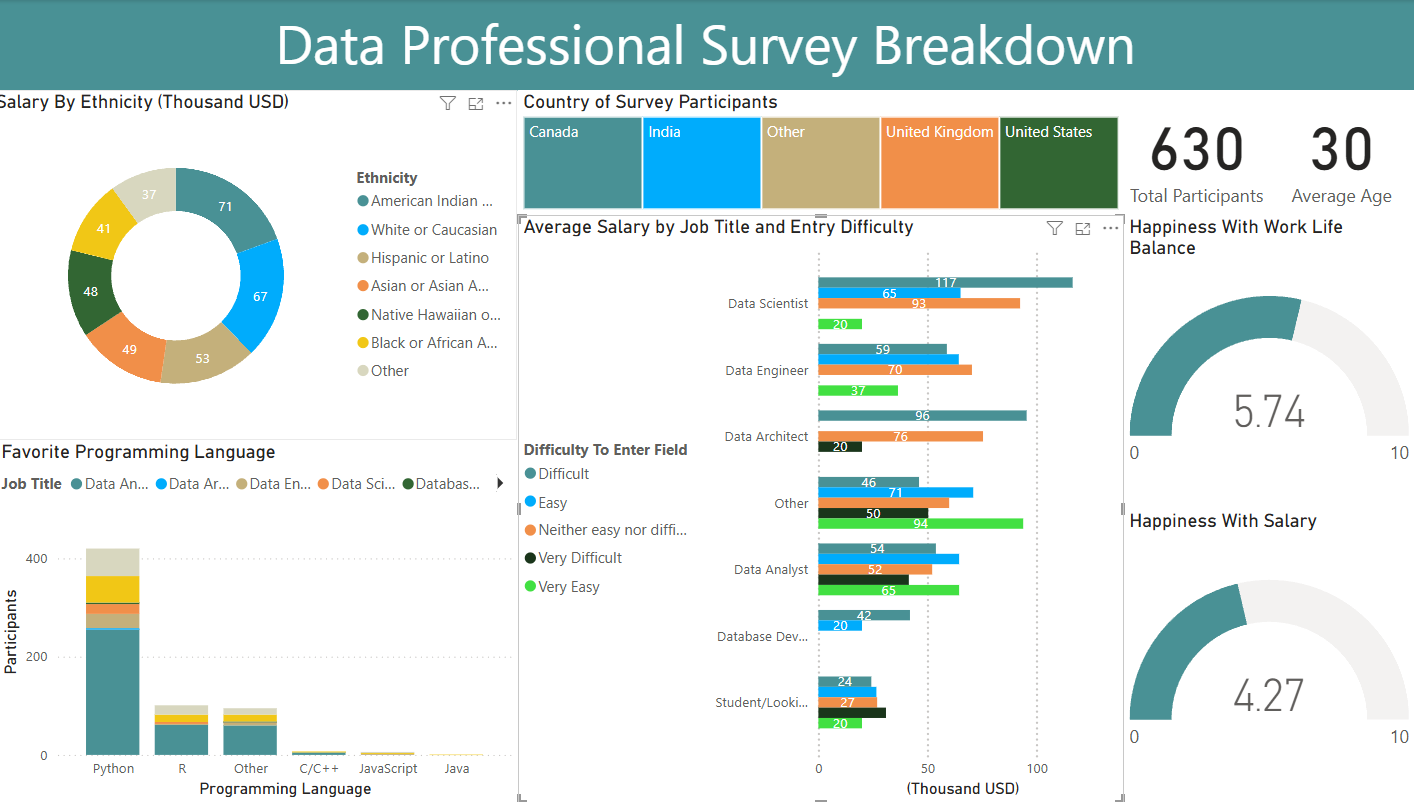

This screenshot's page, from the dashboard's own definition file:
{"tool":"powerbi","page":{"name":"Page 1","canvas":[1280,720],"ordinal":0},"visuals":[{"type":"textbox","box":[9.7,0,1270.3,80.6],"z":0},{"type":"card","fields":{"Values":["CountNonNull(Data Professional Survey.Unique ID)"]},"box":[1019.7,80.6,130.1,111.7],"z":1000},{"type":"card","fields":{"Values":["Avg(Data Professional Survey.Q10 - Current Age)"]},"box":[1149.9,80.6,130.1,111.7],"z":2000},{"type":"clusteredBarChart","title":"Average Salary by Job Title and Entry Difficulty","fields":{"Category":["Data Professional Survey.Job Title"],"Series":["Data Professional Survey.Q7 - How difficult was it for you to break into Data?"],"Y":["Avg(Data Professional Survey.Average Salary)"]},"box":[476.9,192.5,542.7,526.8],"z":3000},{"type":"columnChart","title":"Favorite Programming Language","fields":{"Category":["Data Professional Survey.Q5 - Favorite Programming Language.1"],"Y":["CountNonNull(Data Professional Survey.Unique ID)"],"Series":["Data Professional Survey.Job Title"]},"box":[9.7,394.3,467.1,325.3],"z":4000},{"type":"treemap","title":"Country of Survey Participants","fields":{"Group":["Data Professional Survey.Q11 - Which Country do you live in?.1"],"Values":["Count(Data Professional Survey.Q11 - Which Country do you live in?.1)"]},"box":[476.9,80.8,542.7,111.7],"z":5000},{"type":"gauge","title":"Happiness With Work Life Balance","fields":{"Y":["Avg(Data Professional Survey.Q6 - How Happy are you in your Current Position with the following? (Work/Life Balance))"],"MinValue":["Min(Data Professional Survey.Q6 - How Happy are you in your Current Position with the following? (Work/Life Balance))"],"MaxValue":["Max(Data Professional Survey.Q6 - How Happy are you in your Current Position with the following? (Work/Life Balance))1"]},"box":[1019.7,192.3,260.3,263.2],"z":6000},{"type":"gauge","title":"Happiness With Salary","fields":{"Y":["Avg(Data Professional Survey.Q6 - How Happy are you in your Current Position with the following? (Salary))"],"MinValue":["Min(Data Professional Survey.Q6 - How Happy are you in your Current Position with the following? (Salary))"],"MaxValue":["Max(Data Professional Survey.Q6 - How Happy are you in your Current Position with the following? (Salary))1"]},"box":[1019.7,455.5,260.3,264.2],"z":7000},{"type":"donutChart","title":"Salary By Ethnicity (Thousand USD)","fields":{"Category":["Data Professional Survey.Q13 - Ethnicity.1"],"Y":["Avg(Data Professional Survey.Average Salary)"]},"box":[4.9,80.6,472,313.7],"z":8000}]}

Visuals, with their boxes in screenshot pixels (x1, y1, x2, y2), scaled from the page's 1280x720 canvas onto the 1414x802 screenshot:
textbox: (left=11, top=0, right=1413, bottom=90)
card - CountNonNull(Data Professional Survey.Unique ID): (left=1126, top=90, right=1270, bottom=214)
card - Avg(Data Professional Survey.Q10 - Current Age): (left=1270, top=90, right=1413, bottom=214)
"Average Salary by Job Title and Entry Difficulty" clusteredBarChart: (left=527, top=214, right=1126, bottom=801)
"Favorite Programming Language" columnChart: (left=11, top=439, right=527, bottom=801)
"Country of Survey Participants" treemap: (left=527, top=90, right=1126, bottom=214)
"Happiness With Work Life Balance" gauge: (left=1126, top=214, right=1413, bottom=507)
"Happiness With Salary" gauge: (left=1126, top=507, right=1413, bottom=801)
"Salary By Ethnicity (Thousand USD)" donutChart: (left=5, top=90, right=527, bottom=439)
